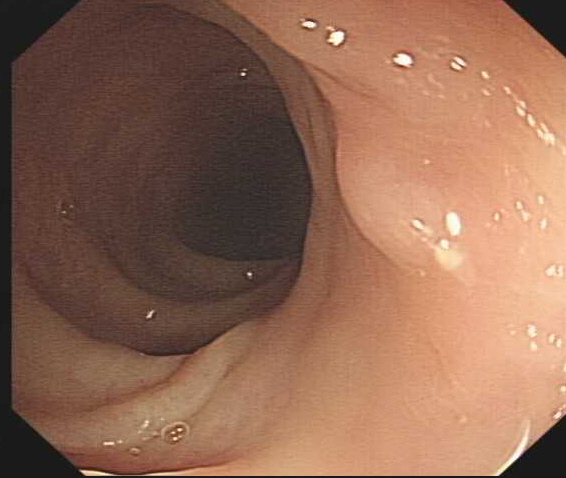others: (330, 123, 457, 280)
